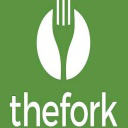Fork: (42, 1, 88, 82)
